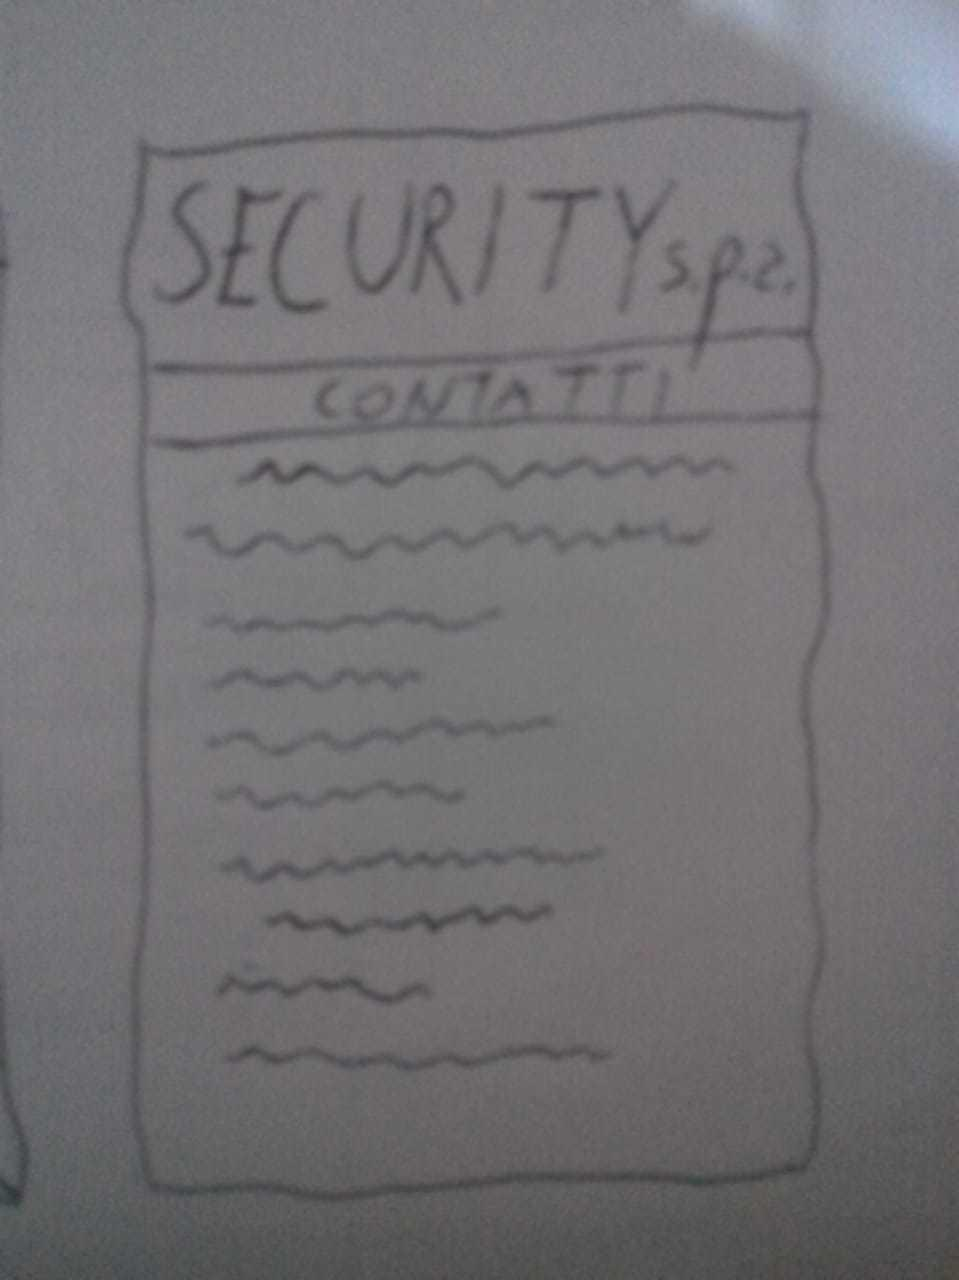Label: (156, 179, 805, 313), (183, 452, 735, 559), (222, 844, 607, 938), (210, 713, 555, 810), (199, 607, 507, 693), (305, 359, 678, 420), (224, 1044, 618, 1075), (216, 974, 431, 1010)
Screen: (126, 98, 832, 1201)
